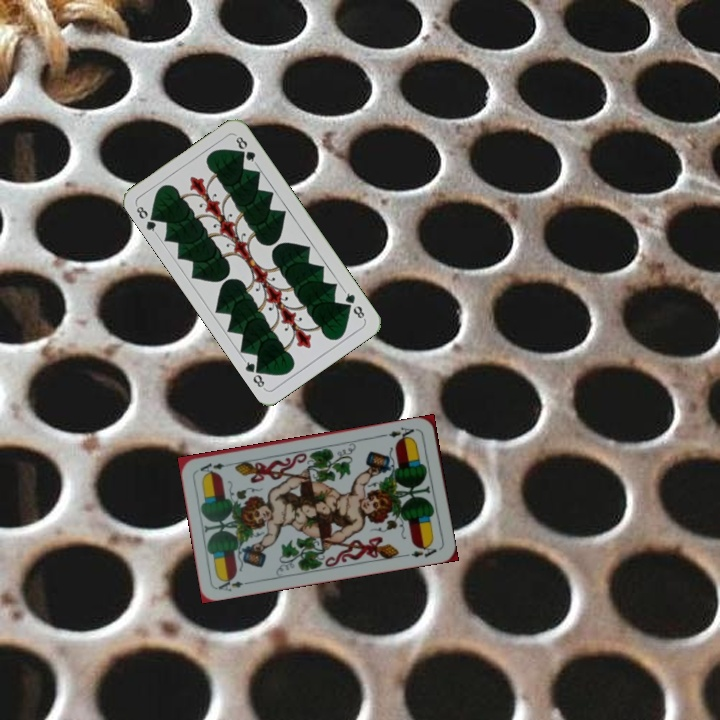EA: (214, 573, 254, 594), (385, 423, 420, 443)
G8: (132, 201, 161, 237), (340, 287, 368, 322)
